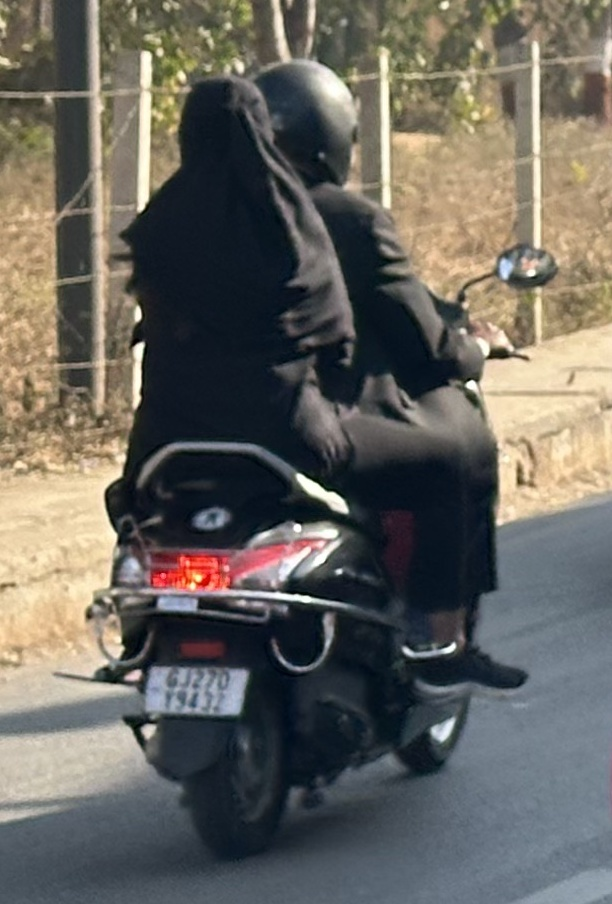BikeWithRider: (46, 54, 564, 869)
Helmet: (242, 54, 368, 192)
NoHelmet: (167, 69, 283, 187)
